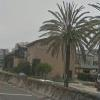Palm tree: (43, 1, 92, 86)
